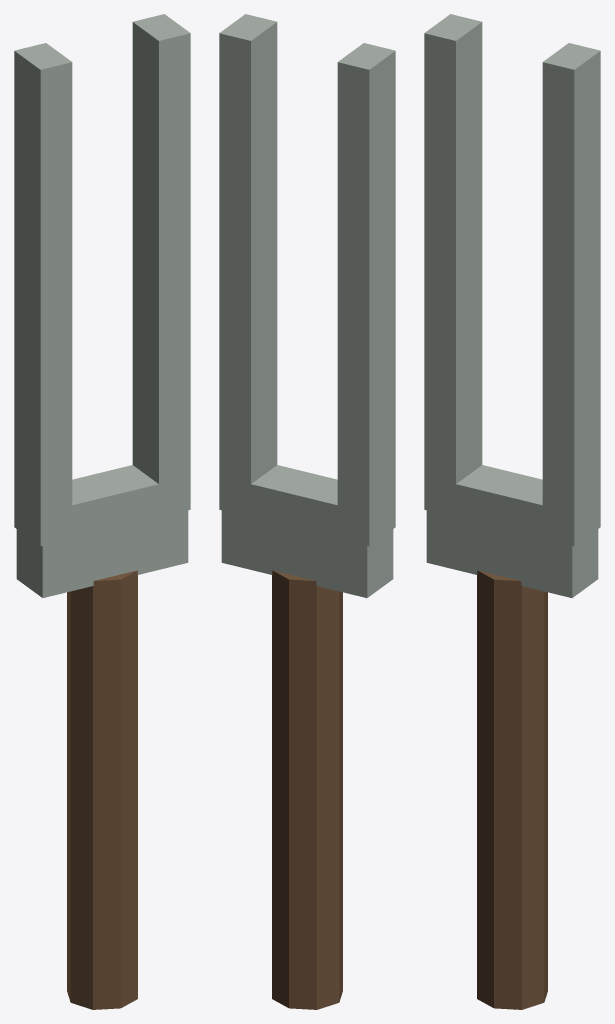
The model's file is blender_resonance_tuner_1.glb.
3 renders of one model, left to right at view 1: azimuth 30°, elevation 25°; view 2: azimuth 150°, elevation 25°; view 3: azimuth 330°, elevation 25°, orthographic.
Parts seen in each view (by area): view 1: blender_resonance_tuner_1; view 2: blender_resonance_tuner_1; view 3: blender_resonance_tuner_1.
Part boxes in pixels (x1,y1,x2,y2): blender_resonance_tuner_1: (14,14,190,1009); blender_resonance_tuner_1: (219,14,395,1009); blender_resonance_tuner_1: (424,14,600,1009).
Bounding box in the file's own units: 0.033 × 0.2 × 0.014.
Materials: 1 (1 with a texture image).
